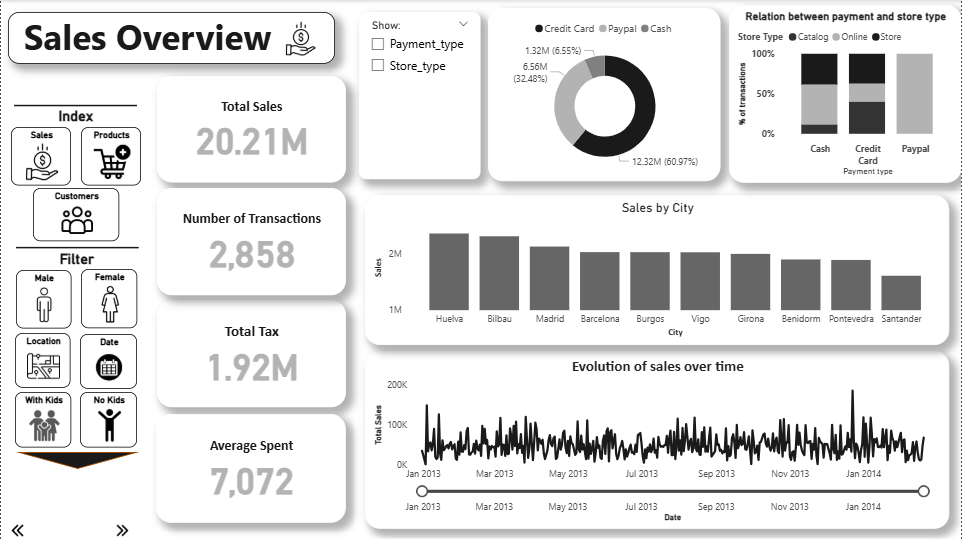

The page's visual inventory and layout, read from the dashboard file:
{"tool":"powerbi","page":{"name":"Sales Overview","canvas":[1280,720],"ordinal":0},"visuals":[{"type":"textbox","title":"Sales Overview","box":[9.6,16.5,436.3,68.8],"z":0},{"type":"image","box":[371.6,23.4,55.1,55.1],"z":1000},{"type":"image","box":[140.5,688.9,43.2,31.1],"z":2000},{"type":"image","box":[0,688.9,44.2,31.1],"z":3000},{"type":"lineChart","title":"Evolution of sales over time","fields":{"Category":["temp1671068008898978552.tran_date.Variation.Jerarquía de fechas.Año","temp1671068008898978552.tran_date.Variation.Jerarquía de fechas.Trimestre","temp1671068008898978552.tran_date.Variation.Jerarquía de fechas.Mes","temp1671068008898978552.tran_date.Variation.Jerarquía de fechas.Día"],"Y":["Sum(temp1671068008898978552.total_amt)"]},"box":[485.8,468,779,236.7],"z":6000},{"type":"columnChart","title":"Sales by City","fields":{"Category":["temp1671068008898978552.city"],"Y":["Sum(temp1671068008898978552.total_amt)"]},"box":[485.8,260.1,779,199.6],"z":7000},{"type":"cardVisual","fields":{"Data":["Sum(temp1671068008898978552.Tax)"]},"box":[207.8,400.5,251.9,143.1],"z":8000},{"type":"cardVisual","fields":{"Data":["Sum(temp1671068008898978552.total_amt)"]},"box":[207.8,101.8,251.9,141.8],"z":9000},{"type":"cardVisual","fields":{"Data":["Count(temp1671068008898978552.transaction_id)"]},"box":[207.8,250.5,251.9,143.1],"z":10000},{"type":"cardVisual","fields":{"Data":["temp1671068008898978552.total_amt média por transaction_id"]},"box":[206.5,551.9,253.2,144.5],"z":11000},{"type":"slicer","fields":{"Values":["Parameter.Parameter"]},"box":[477.6,16.5,162.4,223],"z":12000},{"type":"donutChart","title":"Sales by payment type","fields":{"Category":["temp1671068008898978552.Payment_type","temp1671068008898978552.Store_type"],"Y":["Sum(temp1671068008898978552.total_amt)"]},"box":[649.6,11,309.7,231.2],"z":13000},{"type":"hundredPercentStackedColumnChart","title":"Relation between payment and store type","fields":{"Category":["temp1671068008898978552.Payment_type"],"Y":["Sum(temp1671068008898978552.transaction_id)"],"Series":["temp1671068008898978552.Store_type"]},"box":[970.3,6.9,309.7,236.7],"z":14000},{"type":"textbox","box":[56.4,138.8,87.7,33.5],"z":15000},{"type":"shape","box":[17.9,133.9,163.9,14.8],"z":16000},{"type":"image","title":"Sales","box":[13.8,168.8,80.3,78.1],"z":17000},{"type":"textbox","box":[57.7,329.4,87.7,33.8],"z":18000},{"type":"image","title":"Products","box":[106.4,168.8,80,78.1],"z":19000},{"type":"image","title":"Customers","box":[42.5,251.1,115.2,71.3],"z":20000},{"type":"shape","box":[19.6,322,163.8,15],"z":21000},{"type":"shape","box":[19.6,603,164.4,22.5],"z":22000},{"type":"image","title":"Date","box":[105.9,444.9,76.2,72.5],"z":23000},{"type":"image","title":"Location","box":[18.5,443.7,74.4,72.8],"z":24000},{"type":"image","title":"With Kids","box":[18.7,522.3,75.5,73.6],"z":25000},{"type":"image","title":"No Kids","box":[105.1,522.3,76.4,73.6],"z":26000},{"type":"image","title":"Female","box":[107.1,358.7,75,78.8],"z":27000},{"type":"image","title":"Male","box":[19.6,359.6,73.6,78.2],"z":28000}]}

Visuals, with their boxes in screenshot pixels (x1, y1, x2, y2), scaled from the page's 1280x720 canvas onto the 962x539 screenshot:
"Sales Overview" textbox: rect(7, 12, 335, 64)
image: rect(279, 18, 321, 59)
image: rect(106, 516, 138, 538)
image: rect(0, 516, 33, 538)
"Evolution of sales over time" lineChart: rect(365, 350, 951, 528)
"Sales by City" columnChart: rect(365, 195, 951, 344)
cardVisual - Sum(temp1671068008898978552.Tax): rect(156, 300, 345, 407)
cardVisual - Sum(temp1671068008898978552.total_amt): rect(156, 76, 345, 182)
cardVisual - Count(temp1671068008898978552.transaction_id): rect(156, 188, 345, 295)
cardVisual - temp1671068008898978552.total_amt média por transaction_id: rect(155, 413, 345, 521)
slicer - Parameter.Parameter: rect(359, 12, 481, 179)
"Sales by payment type" donutChart: rect(488, 8, 721, 181)
"Relation between payment and store type" hundredPercentStackedColumnChart: rect(729, 5, 961, 182)
textbox: rect(42, 104, 108, 129)
shape: rect(13, 100, 137, 111)
"Sales" image: rect(10, 126, 71, 185)
textbox: rect(43, 247, 109, 272)
"Products" image: rect(80, 126, 140, 185)
"Customers" image: rect(32, 188, 119, 241)
shape: rect(15, 241, 138, 252)
shape: rect(15, 451, 138, 468)
"Date" image: rect(80, 333, 137, 387)
"Location" image: rect(14, 332, 70, 387)
"With Kids" image: rect(14, 391, 71, 446)
"No Kids" image: rect(79, 391, 136, 446)
"Female" image: rect(80, 269, 137, 328)
"Male" image: rect(15, 269, 70, 328)
